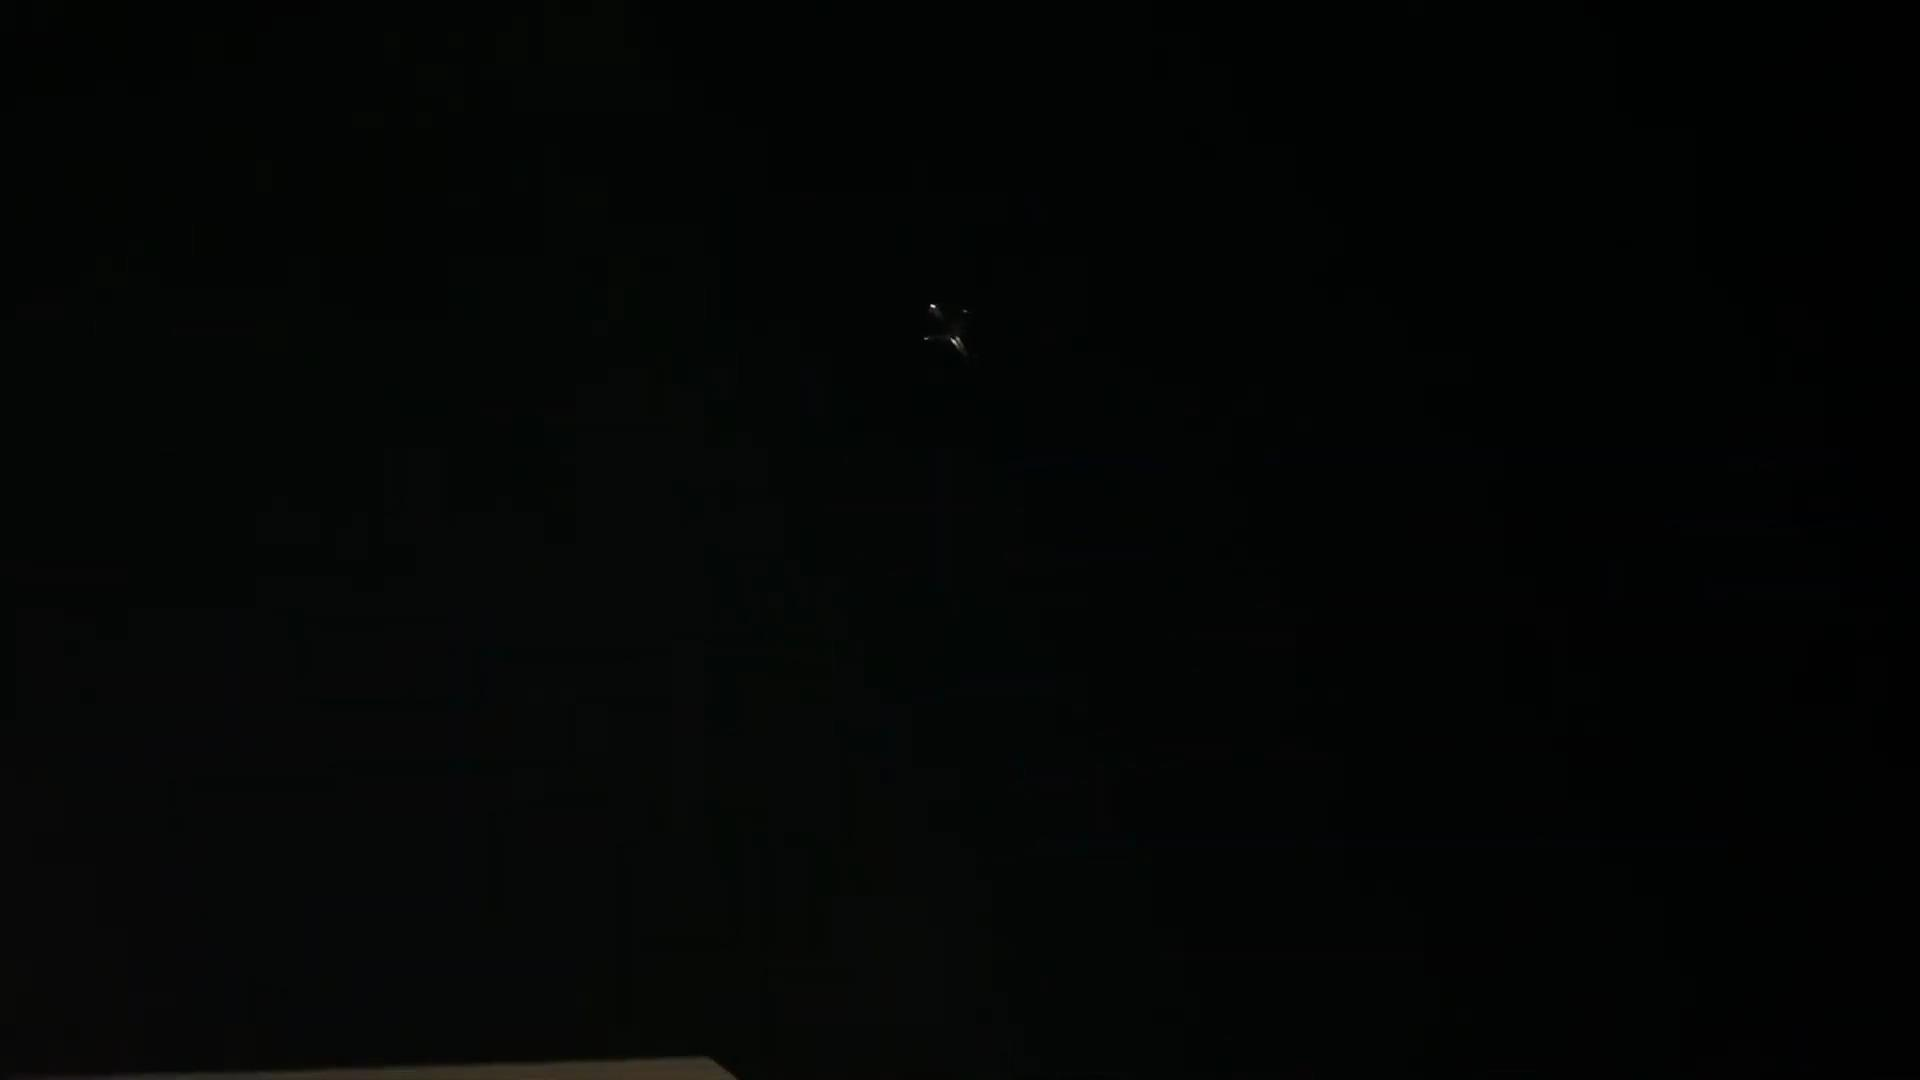Plane: (884, 280, 1011, 377)
